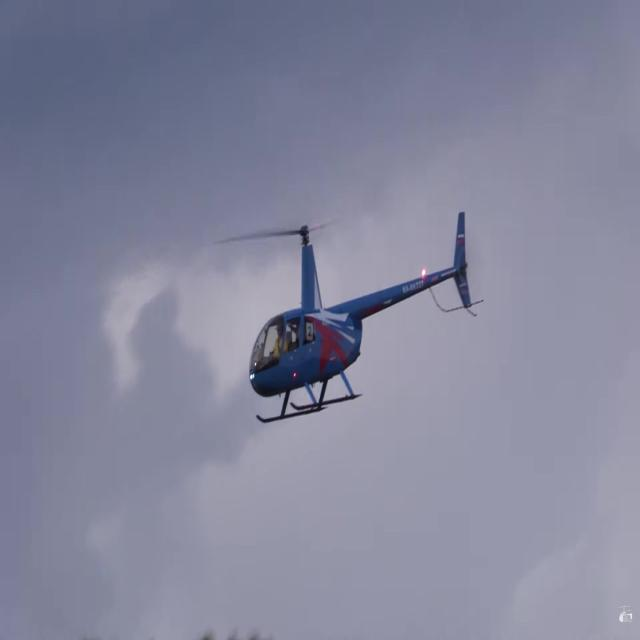CIV_HELO: (248, 210, 472, 425)
